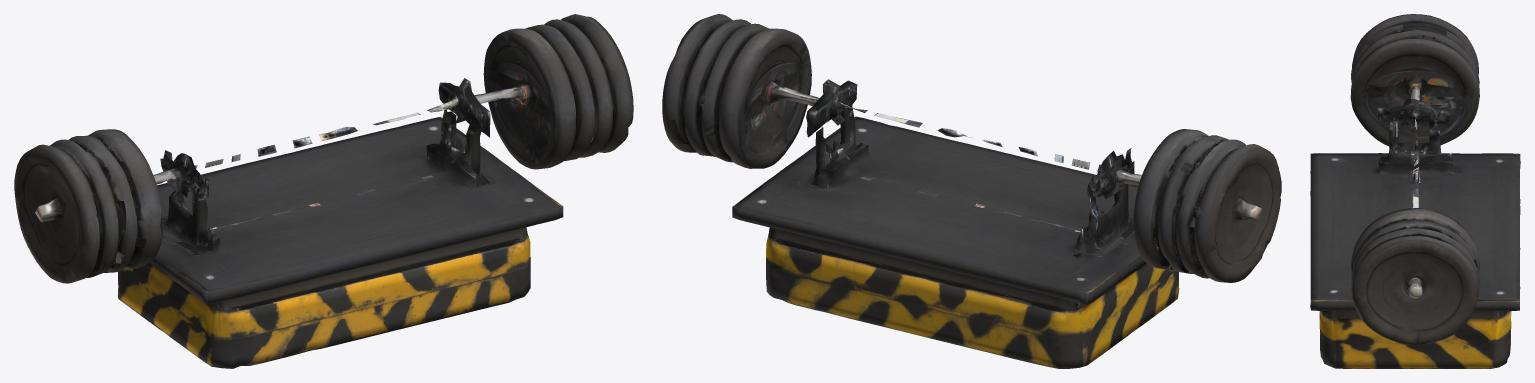
3 views of the same model, side by side, from view 1: azimuth 30°, elevation 25°; view 2: azimuth 150°, elevation 25°; view 3: azimuth 270°, elevation 25° (orthographic). The views are drawn at different scales.
Size of the model in its own units: 2 by 0.7023 by 0.7507.
1 material, 1 textured.
